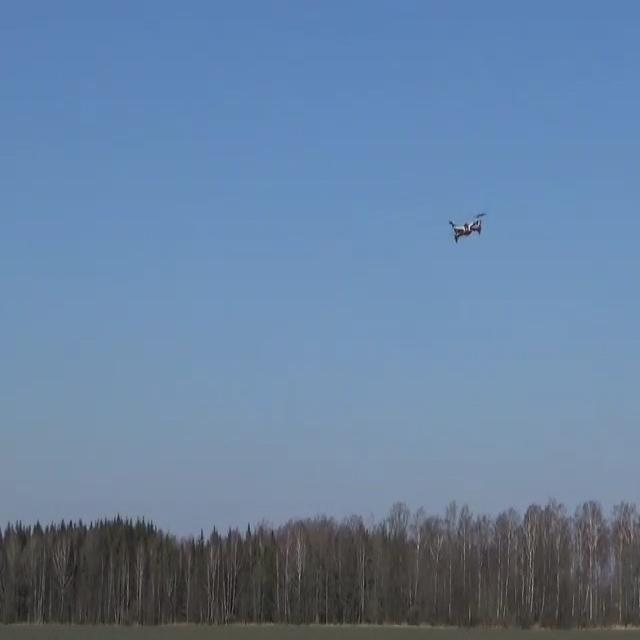drone: (448, 212, 485, 242)
